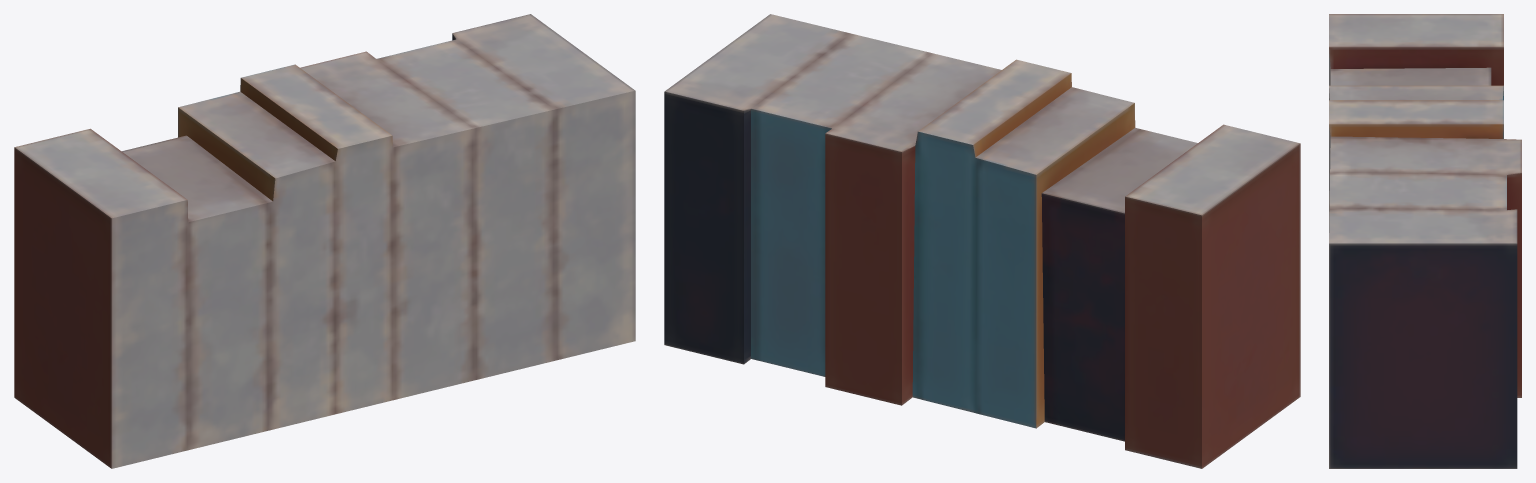
The model's file is Pfb_Indoors_Books__6.fbx.
3 renders of one model, left to right at view 1: azimuth 30°, elevation 25°; view 2: azimuth 150°, elevation 25°; view 3: azimuth 270°, elevation 25°, orthographic. The views are drawn at different scales.
Parts seen in each view (by area): view 1: Mat_Indoors_Books_01_3; view 2: Mat_Indoors_Books_01_3; view 3: Mat_Indoors_Books_01_3.
Part boxes in pixels (left/top/right/bottom): Mat_Indoors_Books_01_3: left=14, top=14, right=635, bottom=468; Mat_Indoors_Books_01_3: left=664, top=14, right=1300, bottom=468; Mat_Indoors_Books_01_3: left=1329, top=14, right=1521, bottom=468.
Bounding box in the file's own units: 0.9648 × 0.4662 × 0.3425.
Materials: 1 (1 with a texture image).
